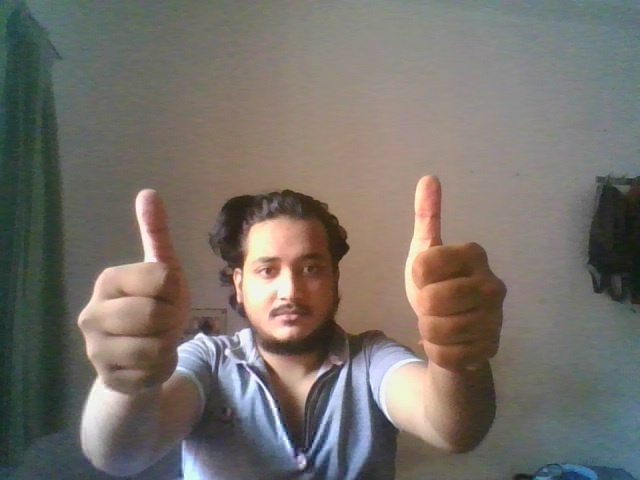ThumbsUp: (76, 188, 188, 394), (401, 173, 509, 368)
